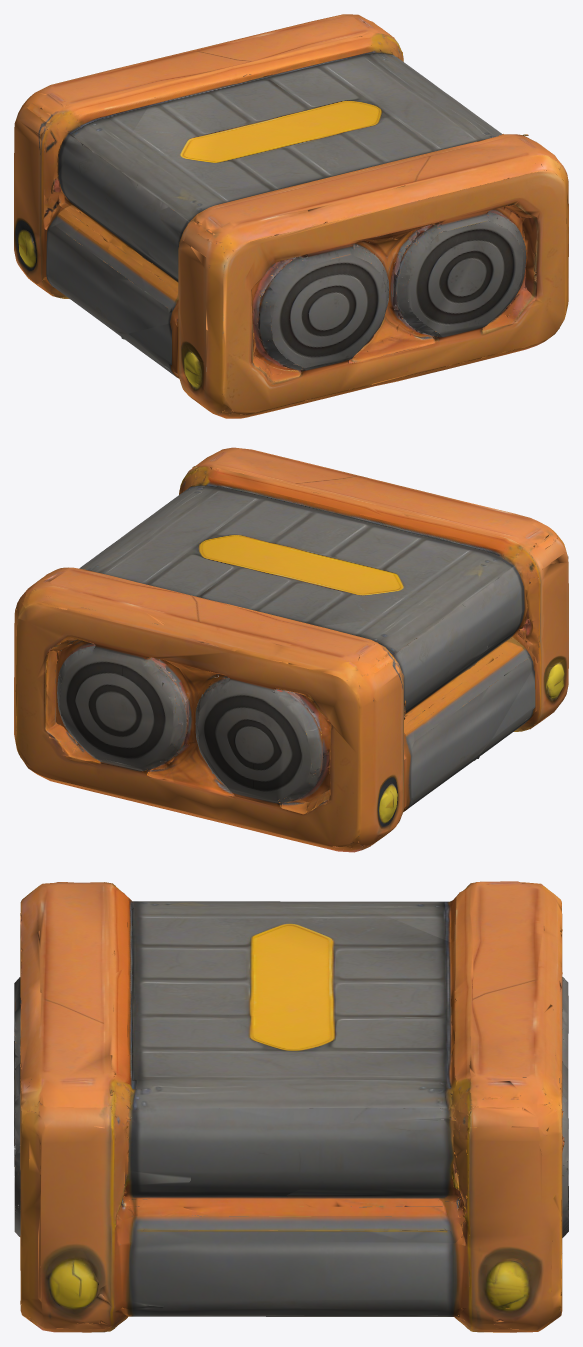
Rendered from cinta.glb.
3 views of the same model, one above another, from view 1: azimuth 30°, elevation 25°; view 2: azimuth 150°, elevation 25°; view 3: azimuth 270°, elevation 25° (orthographic). The views are drawn at different scales.
Parts seen in each view (by area): view 1: Mesh_0; view 2: Mesh_0; view 3: Mesh_0.
Boxes of the visible parts, x1=… form: Mesh_0: x1=14, y1=14, x2=568, y2=418; Mesh_0: x1=14, y1=447, x2=568, y2=852; Mesh_0: x1=14, y1=881, x2=568, y2=1332.
Size of the model in its own units: 1.99 by 0.9971 by 1.98.
Materials: 2 (2 with a texture image).
